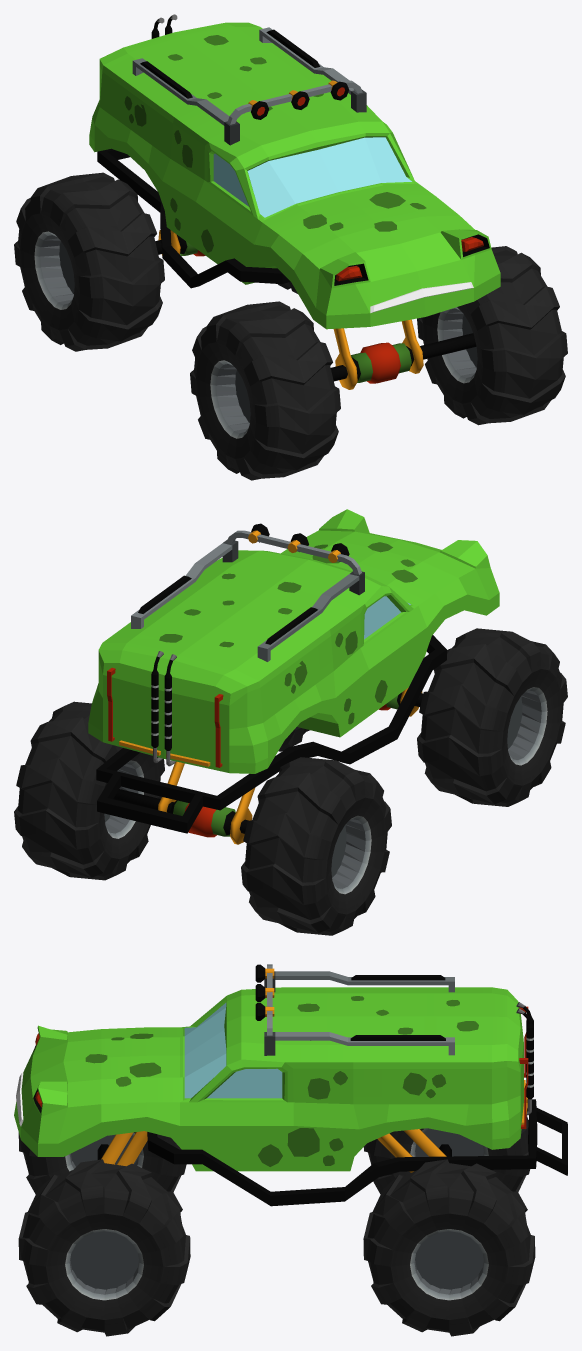
Rendered from truck 7.fbx.
3 views of the same model, one above another, from view 1: azimuth 30°, elevation 25°; view 2: azimuth 150°, elevation 25°; view 3: azimuth 270°, elevation 25° (orthographic). The views are drawn at different scales.
Parts seen in each view (by area): view 1: Monster_Truck_Body_6_Frog_0, Wheel_FR_6_Frog_0.002, Wheel_FR_6_Frog_0, Wheel_FR_6_Frog_0.001, Monster_Truck_Livery_6_Frog_0, Axel_Front_6_Frog_0; view 2: Monster_Truck_Body_6_Frog_0, Wheel_FR_6_Frog_0.002, Wheel_FR_6_Frog_0, Wheel_FR_6_Frog_0.003, Monster_Truck_Livery_6_Frog_0, Axel_Back_6_Frog_0; view 3: Monster_Truck_Body_6_Frog_0, Wheel_FR_6_Frog_0.001, Wheel_FR_6_Frog_0.003, Monster_Truck_Livery_6_Frog_0, Wheel_FR_6_Frog_0.002, Wheel_FR_6_Frog_0, Axel_Front_6_Frog_0, Axel_Back_6_Frog_0.
Boxes of the visible parts, box(x1,y1,x2,y2) form: Monster_Truck_Body_6_Frog_0: box(89, 22, 500, 329); Wheel_FR_6_Frog_0.002: box(14, 172, 164, 351); Wheel_FR_6_Frog_0: box(190, 301, 340, 480); Wheel_FR_6_Frog_0.001: box(417, 246, 567, 425); Monster_Truck_Livery_6_Frog_0: box(124, 14, 426, 252); Axel_Front_6_Frog_0: box(330, 319, 476, 389); Monster_Truck_Body_6_Frog_0: box(88, 509, 499, 833); Wheel_FR_6_Frog_0.002: box(241, 757, 391, 935); Wheel_FR_6_Frog_0: box(417, 628, 567, 806); Wheel_FR_6_Frog_0.003: box(14, 701, 164, 880); Monster_Truck_Livery_6_Frog_0: box(107, 523, 417, 767); Axel_Back_6_Frog_0: box(113, 761, 255, 844); Monster_Truck_Body_6_Frog_0: box(14, 987, 567, 1206); Wheel_FR_6_Frog_0.001: box(18, 1159, 190, 1336); Wheel_FR_6_Frog_0.003: box(363, 1159, 535, 1336); Monster_Truck_Livery_6_Frog_0: box(85, 964, 533, 1166); Wheel_FR_6_Frog_0.002: box(363, 1115, 530, 1194); Wheel_FR_6_Frog_0: box(18, 1132, 186, 1194); Axel_Front_6_Frog_0: box(97, 1131, 147, 1166); Axel_Back_6_Frog_0: box(377, 1129, 451, 1172).
Size of the model in its own units: 33.79 by 30.9 by 54.06.
Materials: 1 (1 with a texture image).
